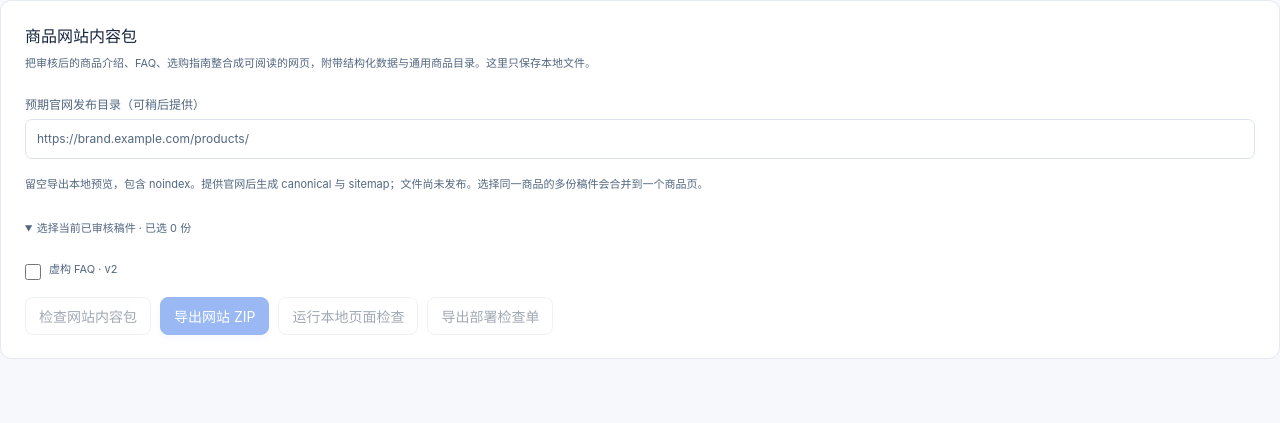
it: commerce UI › saves a reviewed site with pinned revisions and reports cancellation honestly
The width and height of the screenshot is (1280, 423).
Click the checkbox: (33, 272) [25,264,41,280]
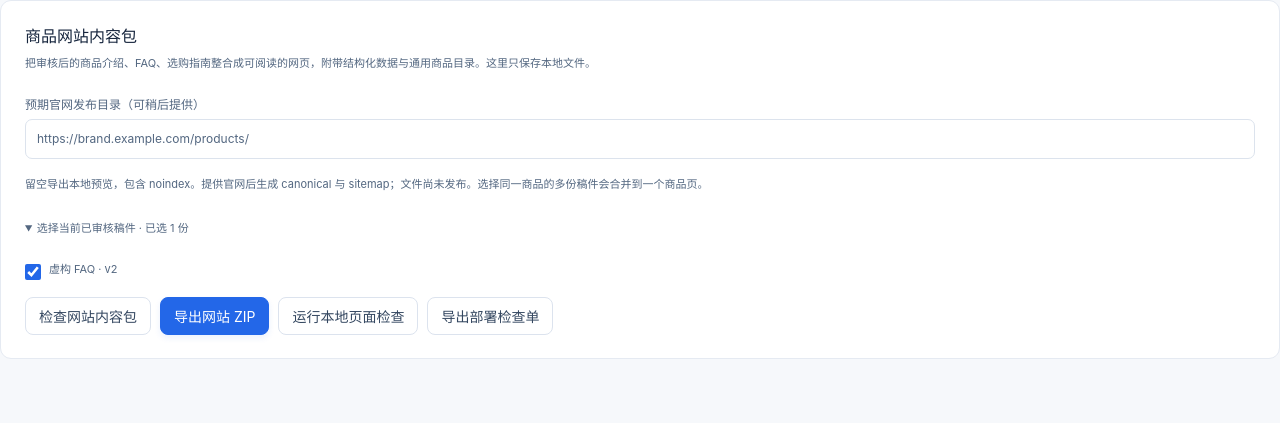
Click the button "导出网站 ZIP": (215, 316) [160,297,270,335]
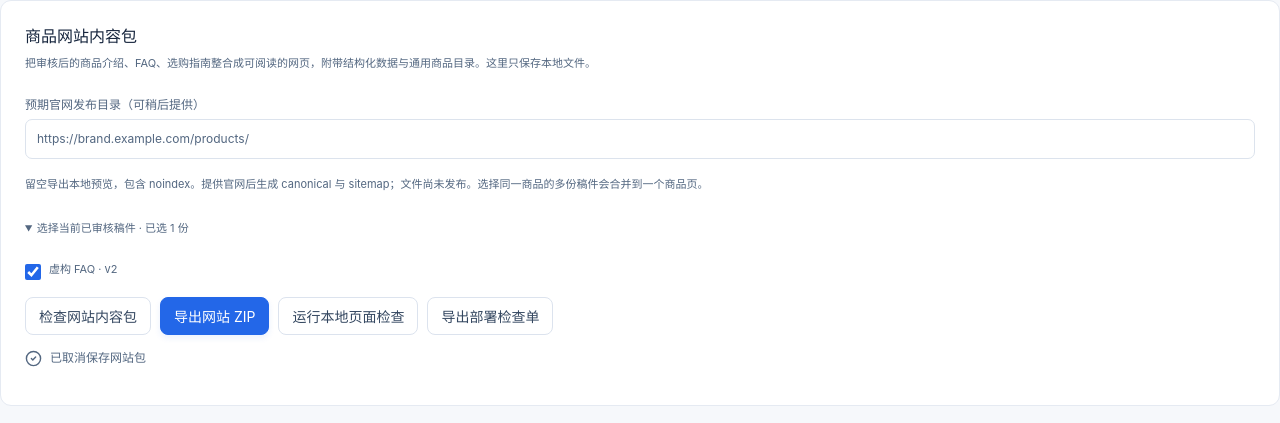
Check: the text "已取消保存网站包" is shown, box [25,350,146,367]
